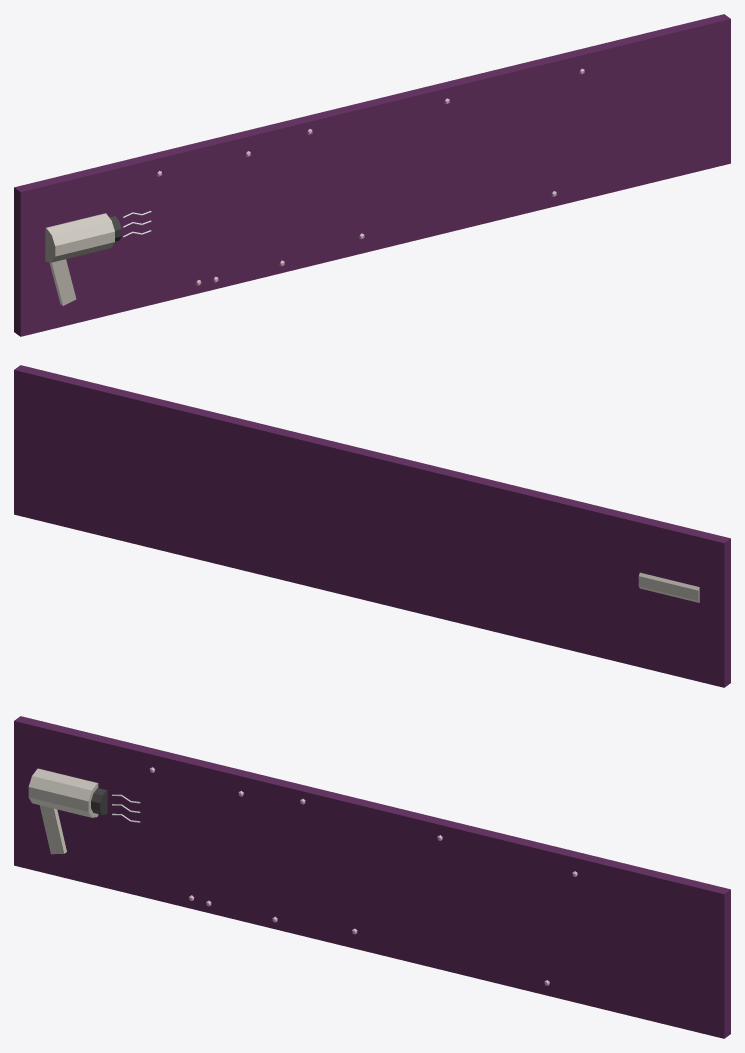
The model's file is bang_salon_toc_my_linh_40.glb.
3 views of the same model, one above another, from view 1: azimuth 30°, elevation 25°; view 2: azimuth 150°, elevation 25°; view 3: azimuth 330°, elevation 25° (orthographic).
Parts seen in each view (by area): view 1: bang_salon_toc_my_linh_40; view 2: bang_salon_toc_my_linh_40; view 3: bang_salon_toc_my_linh_40.
Part boxes in pixels (box(x1,y1,x2,y2)): bang_salon_toc_my_linh_40: box(14, 14, 730, 336); bang_salon_toc_my_linh_40: box(14, 365, 730, 687); bang_salon_toc_my_linh_40: box(14, 716, 730, 1038).
Size of the model in its own units: 3.7 by 0.72 by 0.1598.
